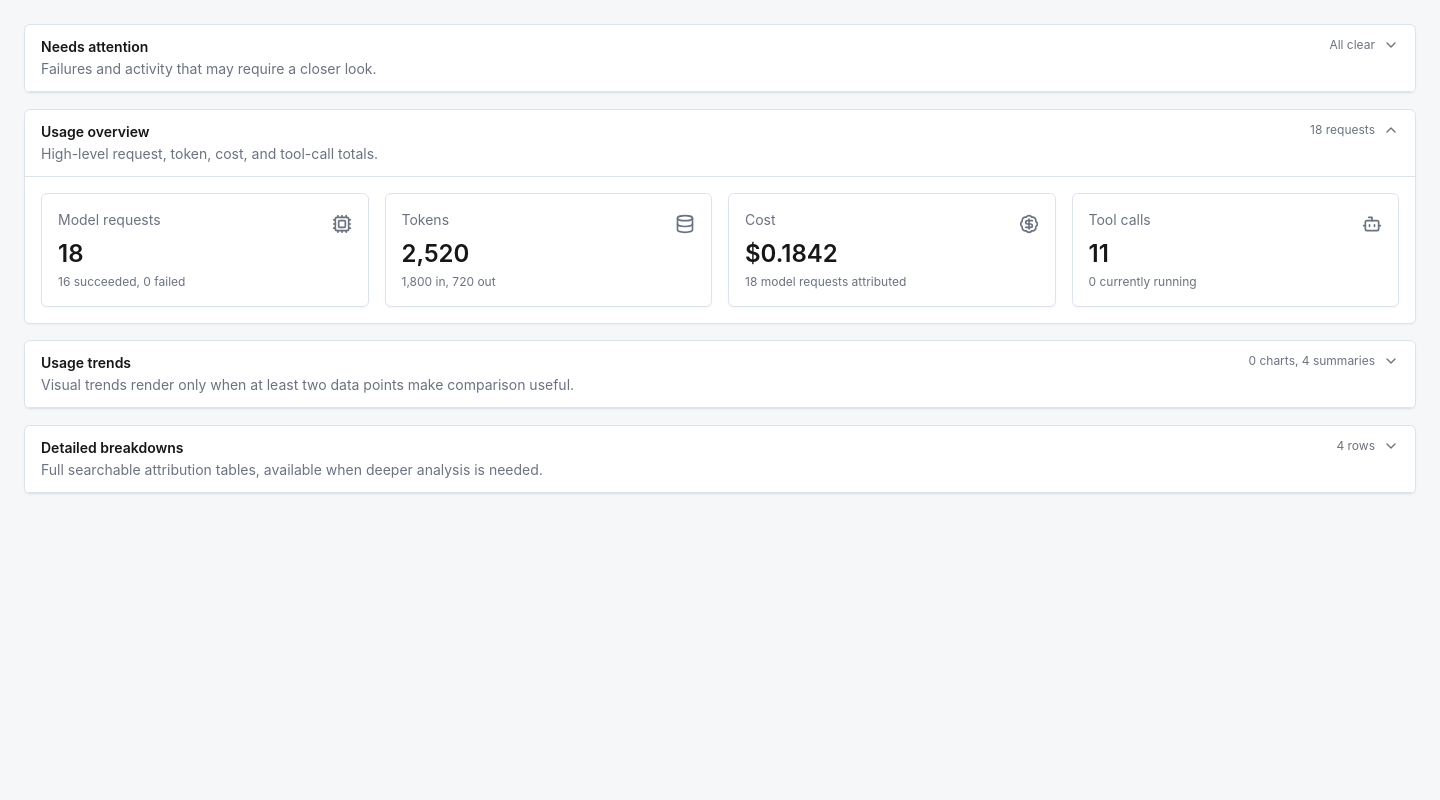
it: UsageSummaryView › uses compact summaries instead of charts for one or zero data points
Check: the button with aria-label "Expand Needs attention" is shown, box [25,25,1415,91]
What coordinates should you click on to do the following:
click the button with aria-label "Expand Usage trends"
I would click on:
 (86, 363)
Its box is [25,341,1415,407].
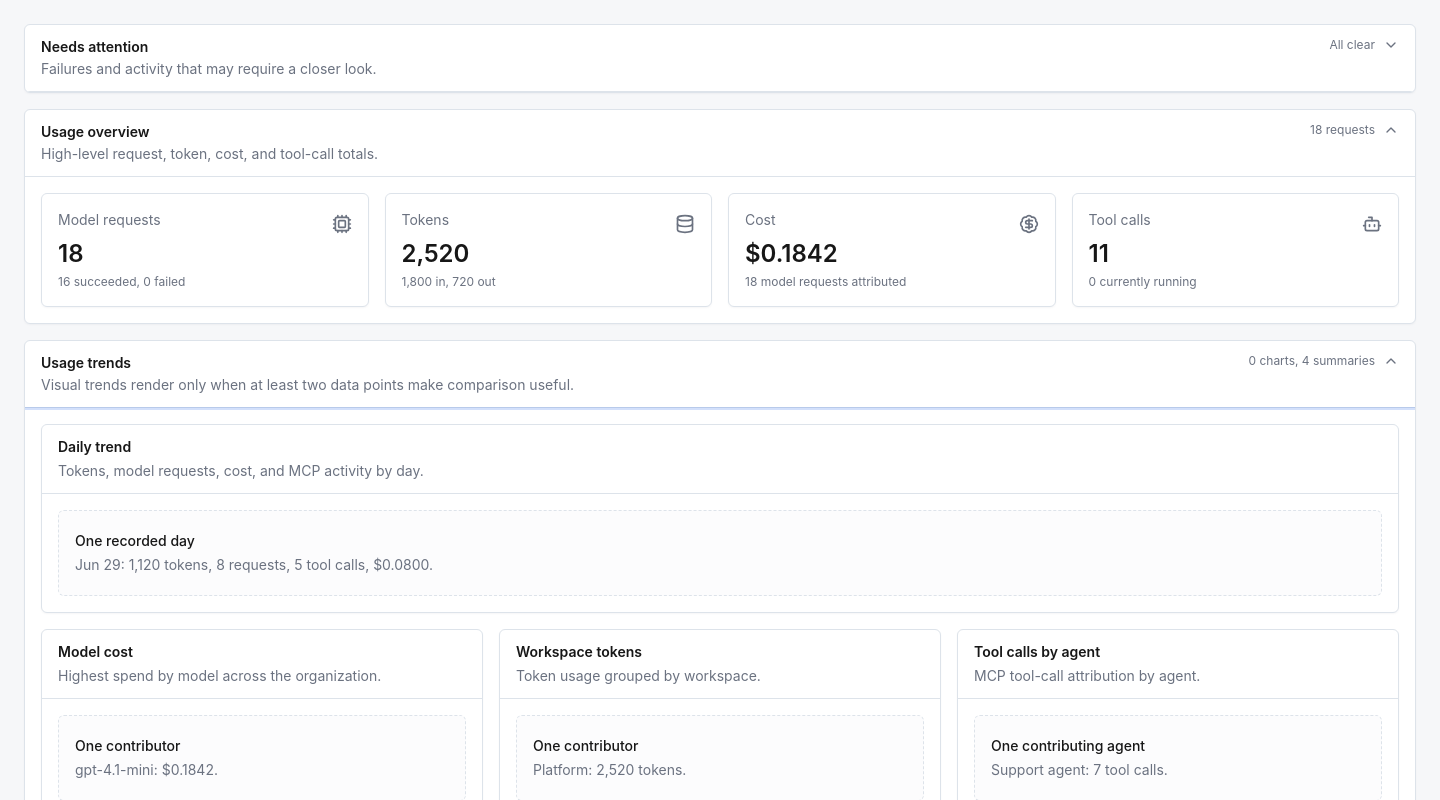
Check: the text "One recorded day" is shown, box [75,532,195,549]
Check: the text "One contributor" is shown 2 times, box [75,737,180,754]; [533,737,638,754]
Check: the text "One contributing agent" is shown, box [991,737,1145,754]
